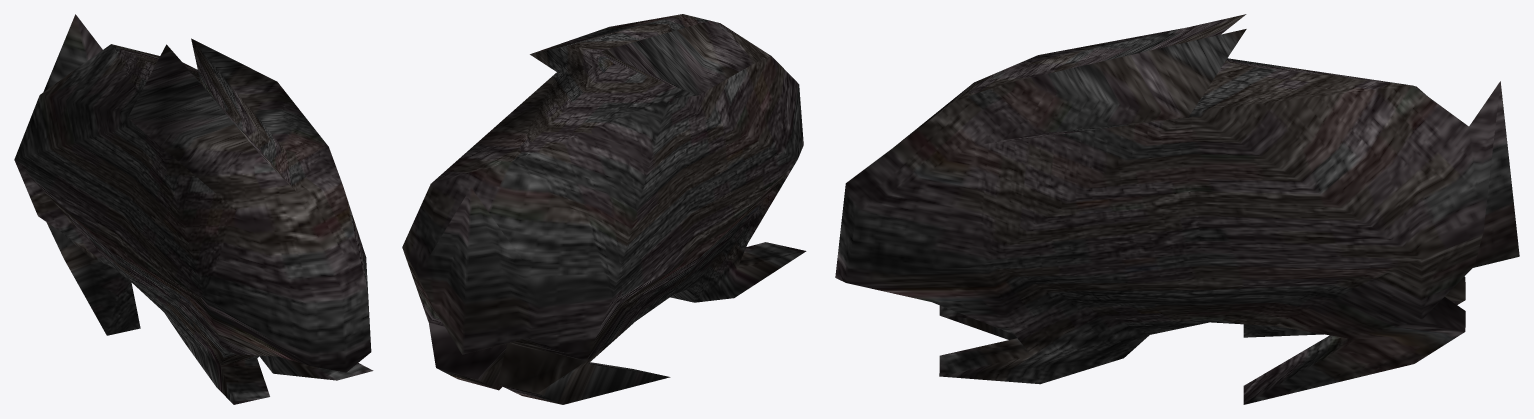
File: ToastedZombie.FBX
The picture shows the model from 3 angles, left to right: view 1: azimuth 30°, elevation 25°; view 2: azimuth 150°, elevation 25°; view 3: azimuth 270°, elevation 25°; orthographic projection. The views are drawn at different scales.
Parts seen in each view (by area): view 1: Toasted Zombie; view 2: Toasted Zombie; view 3: Toasted Zombie.
Part boxes in pixels (bbox=[...]): Toasted Zombie: bbox=[14, 14, 373, 404]; Toasted Zombie: bbox=[402, 14, 806, 404]; Toasted Zombie: bbox=[835, 14, 1519, 404].
Bounding box in the file's own units: 31.39 × 44.5 × 81.2.
